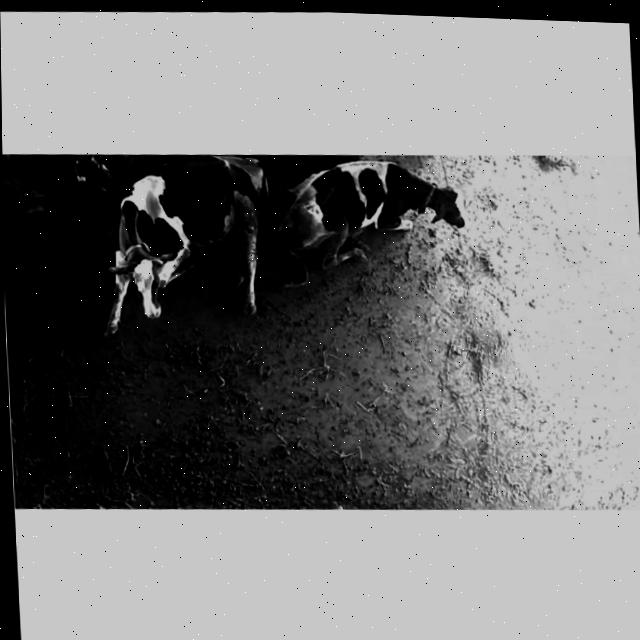lay: (86, 148, 276, 364), (270, 147, 482, 303), (2, 149, 142, 217)
